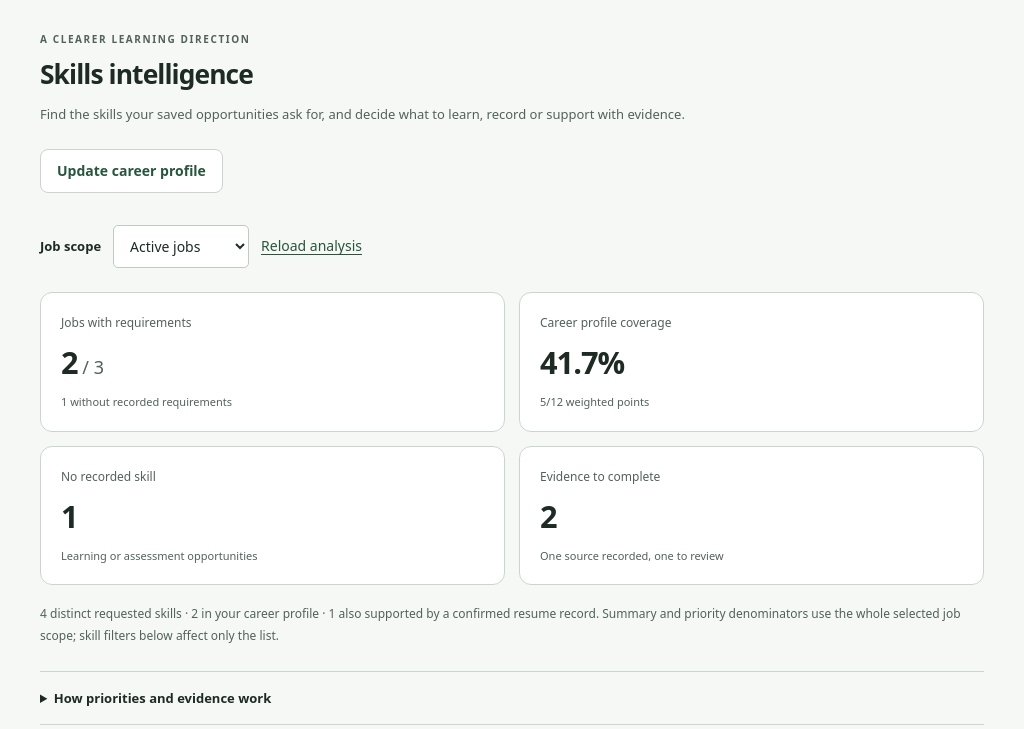
Scenario: explains priorities and aggregate coverage without presenting percentages as predictions
Expected: the text "41.7%" is shown, [540, 341, 624, 383]
Click the heading "How priorities and evidence work" at (163, 698), box [54, 689, 271, 707]
(page scrolled)
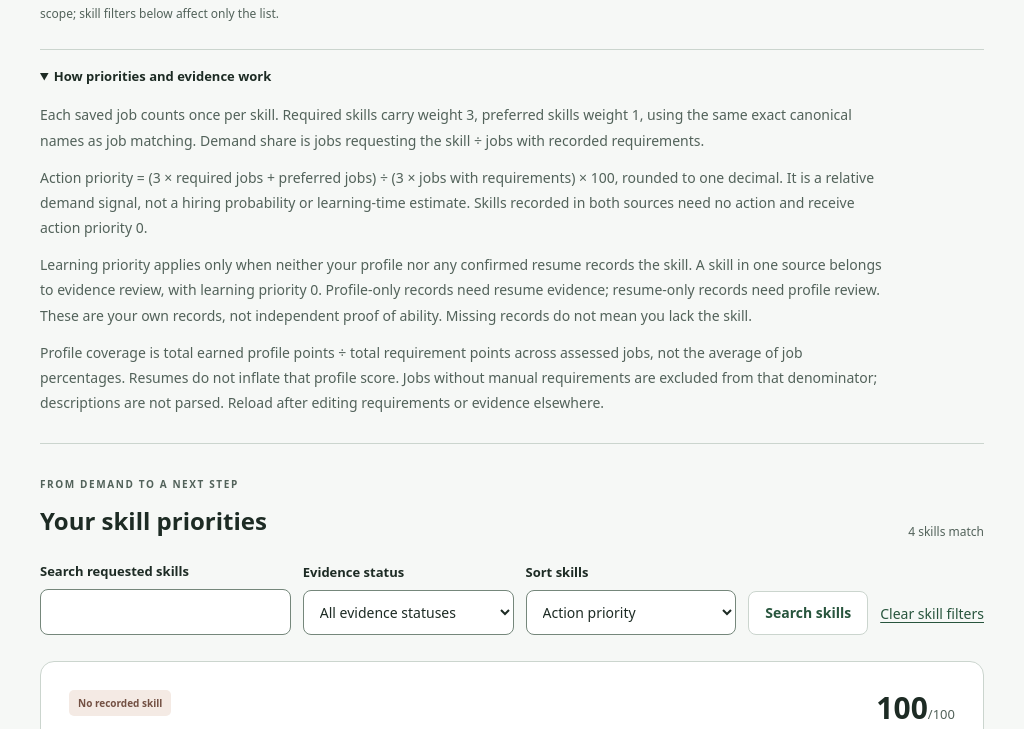
Expected: the text "Action priority =" shows "3 × jobs with requirements", [40, 168, 874, 237]
Expected: the text "Profile coverage is total earned" shows "not the average", [40, 343, 877, 412]
